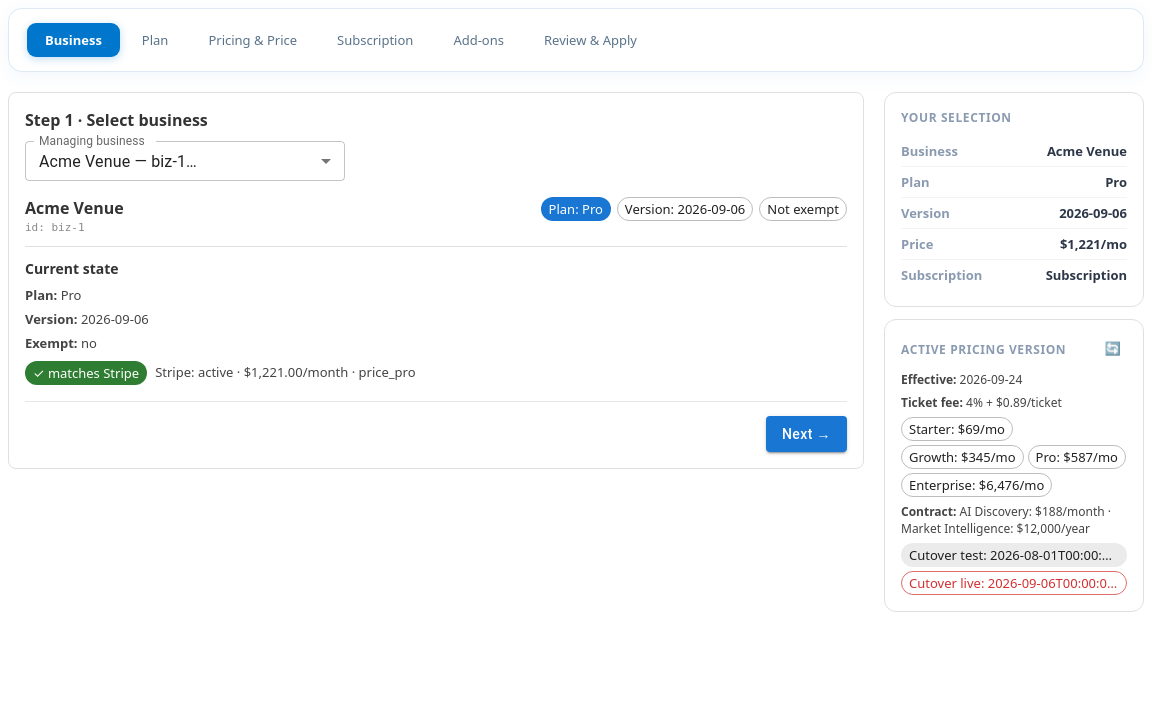
it: PricingConsole (guided stepped workflow) › Step 2 shows plan level options with the Pro product mix
What coordinates should you click on to do the following:
click the button with test id "pc-next"
I would click on:
 (806, 434)
Its box is left=766, top=416, right=847, bottom=452.
(page scrolled)
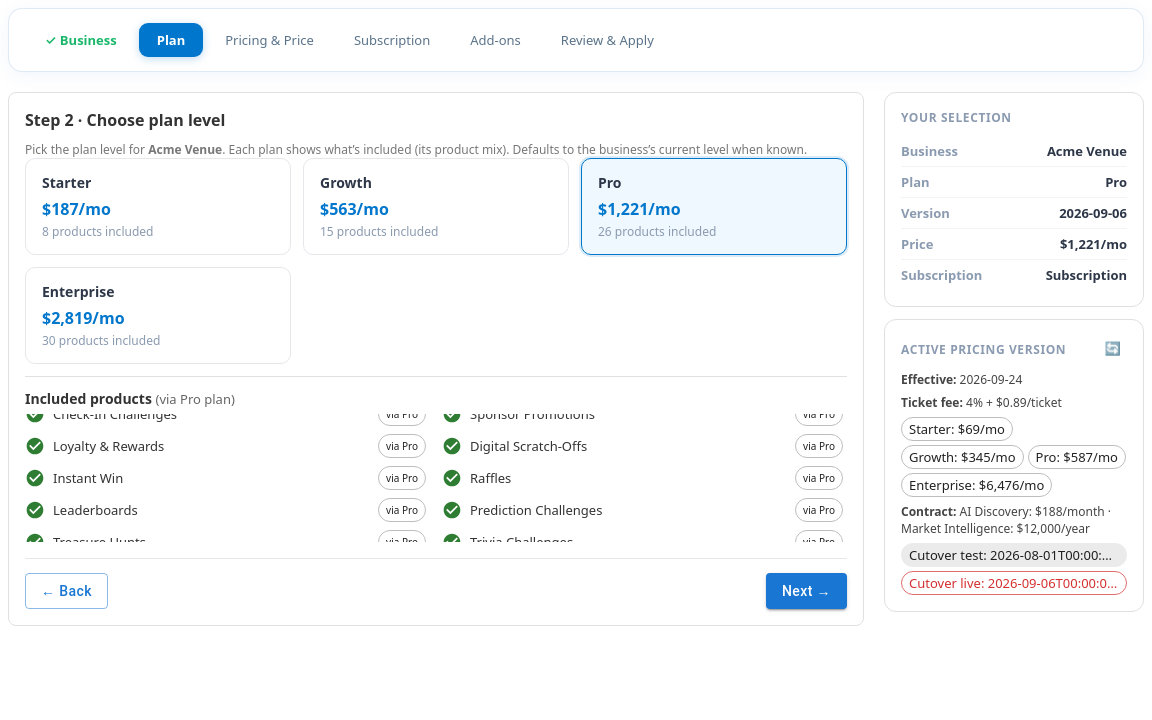
Expected: the text "Raffles" is shown, left=470, top=469, right=511, bottom=487
